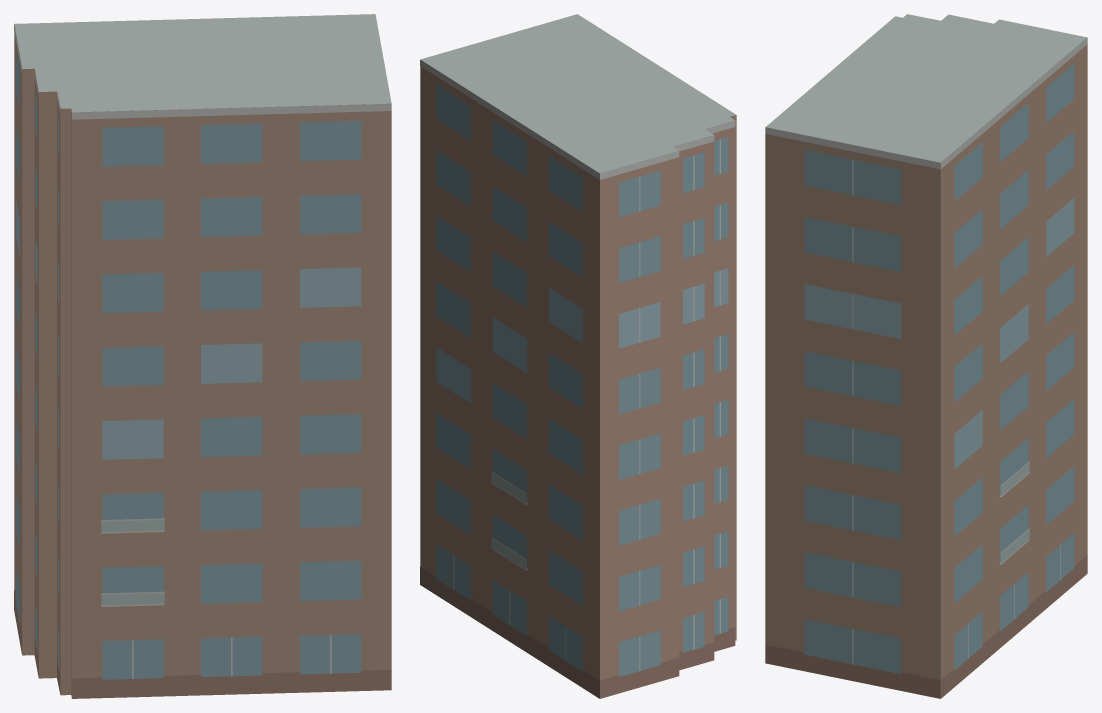
File: survey-upis-32743305.glb
3 renders of one model, left to right at view 1: azimuth 30°, elevation 25°; view 2: azimuth 150°, elevation 25°; view 3: azimuth 270°, elevation 25°, orthographic. The views are drawn at different scales.
Visible parts, largest first — view 1: survey-upis-32743305.tmp; view 2: survey-upis-32743305.tmp; view 3: survey-upis-32743305.tmp.
Boxes of the visible parts, x1,y1,x2,y2 form: survey-upis-32743305.tmp: (14,14,391,698); survey-upis-32743305.tmp: (420,14,736,698); survey-upis-32743305.tmp: (765,14,1087,698).
Bounding box in the file's own units: 11.67 × 19.6 × 10.68.
